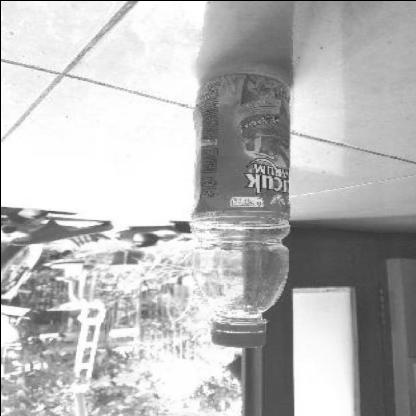plastic_bottles: (188, 57, 296, 351)
